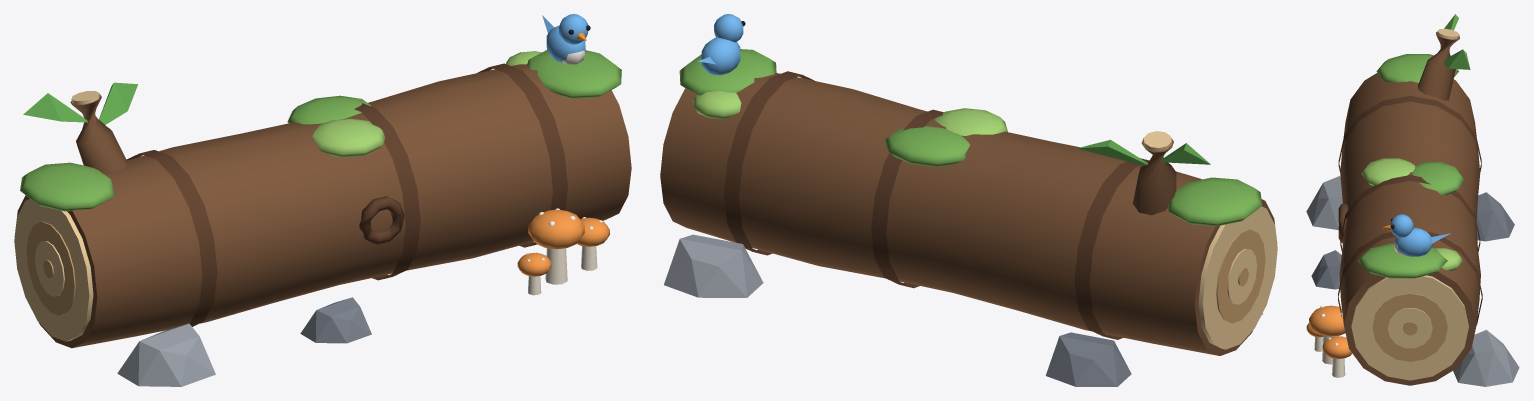
Rendered from RiversideLog.glb.
3 renders of one model, left to right at view 1: azimuth 30°, elevation 25°; view 2: azimuth 150°, elevation 25°; view 3: azimuth 270°, elevation 25°, orthographic. The views are drawn at different scales.
Parts seen in each view (by area): view 1: RiversideLog__Bark, RiversideLog__Bark_Dark, RiversideLog__Moss, RiversideLog__Wood_Cut, RiversideLog__Rock, RiversideLog__Shroom_Cap, RiversideLog__Moss_Light, RiversideLog__Wood_Ring, RiversideLog__Rock_Dark, RiversideLog__Leaf, RiversideLog__Cream, RiversideLog__Bird; view 2: RiversideLog__Bark, RiversideLog__Moss, RiversideLog__Bark_Dark, RiversideLog__Wood_Cut, RiversideLog__Rock, RiversideLog__Rock_Dark, RiversideLog__Moss_Light, RiversideLog__Wood_Ring, RiversideLog__Bird, RiversideLog__Leaf; view 3: RiversideLog__Bark, RiversideLog__Wood_Cut, RiversideLog__Moss, RiversideLog__Rock, RiversideLog__Wood_Ring, RiversideLog__Bark_Dark, RiversideLog__Rock_Dark, RiversideLog__Shroom_Cap, RiversideLog__Moss_Light, RiversideLog__Bird, RiversideLog__Cream, RiversideLog__Leaf.
Boxes of the visible parts, left/top/right/bottom form: RiversideLog__Bark: left=14, top=64, right=631, bottom=348; RiversideLog__Bark_Dark: left=126, top=63, right=567, bottom=326; RiversideLog__Moss: left=20, top=50, right=621, bottom=211; RiversideLog__Wood_Cut: left=14, top=91, right=99, bottom=341; RiversideLog__Rock: left=117, top=323, right=215, bottom=386; RiversideLog__Shroom_Cap: left=517, top=209, right=609, bottom=276; RiversideLog__Moss_Light: left=312, top=51, right=541, bottom=157; RiversideLog__Wood_Ring: left=26, top=221, right=75, bottom=315; RiversideLog__Rock_Dark: left=300, top=297, right=371, bottom=343; RiversideLog__Leaf: left=23, top=82, right=137, bottom=124; RiversideLog__Cream: left=525, top=208, right=602, bottom=295; RiversideLog__Bird: left=542, top=14, right=588, bottom=62; RiversideLog__Bark: left=660, top=73, right=1277, bottom=355; RiversideLog__Moss: left=679, top=49, right=1262, bottom=226; RiversideLog__Bark_Dark: left=724, top=71, right=1149, bottom=339; RiversideLog__Wood_Cut: left=1143, top=131, right=1277, bottom=349; RiversideLog__Rock: left=664, top=234, right=1262, bottom=314; RiversideLog__Rock_Dark: left=1045, top=332, right=1131, bottom=386; RiversideLog__Moss_Light: left=692, top=91, right=1007, bottom=135; RiversideLog__Wood_Ring: left=1216, top=229, right=1265, bottom=323; RiversideLog__Bird: left=697, top=14, right=743, bottom=75; RiversideLog__Leaf: left=1077, top=139, right=1210, bottom=165; RiversideLog__Bark: left=1339, top=32, right=1480, bottom=385; RiversideLog__Wood_Cut: left=1351, top=28, right=1468, bottom=380; RiversideLog__Moss: left=1358, top=54, right=1464, bottom=278; RiversideLog__Rock: left=1306, top=176, right=1519, bottom=386; RiversideLog__Wood_Ring: left=1372, top=293, right=1447, bottom=361; RiversideLog__Bark_Dark: left=1338, top=95, right=1482, bottom=324; RiversideLog__Rock_Dark: left=1311, top=192, right=1514, bottom=289; RiversideLog__Shroom_Cap: left=1306, top=305, right=1352, bottom=358; RiversideLog__Moss_Light: left=1361, top=158, right=1462, bottom=270; RiversideLog__Bird: left=1390, top=214, right=1450, bottom=256; RiversideLog__Cream: left=1314, top=306, right=1347, bottom=377; RiversideLog__Leaf: left=1444, top=14, right=1470, bottom=69.
Size of the model in its own units: 6.9 by 2.68 by 2.83.
